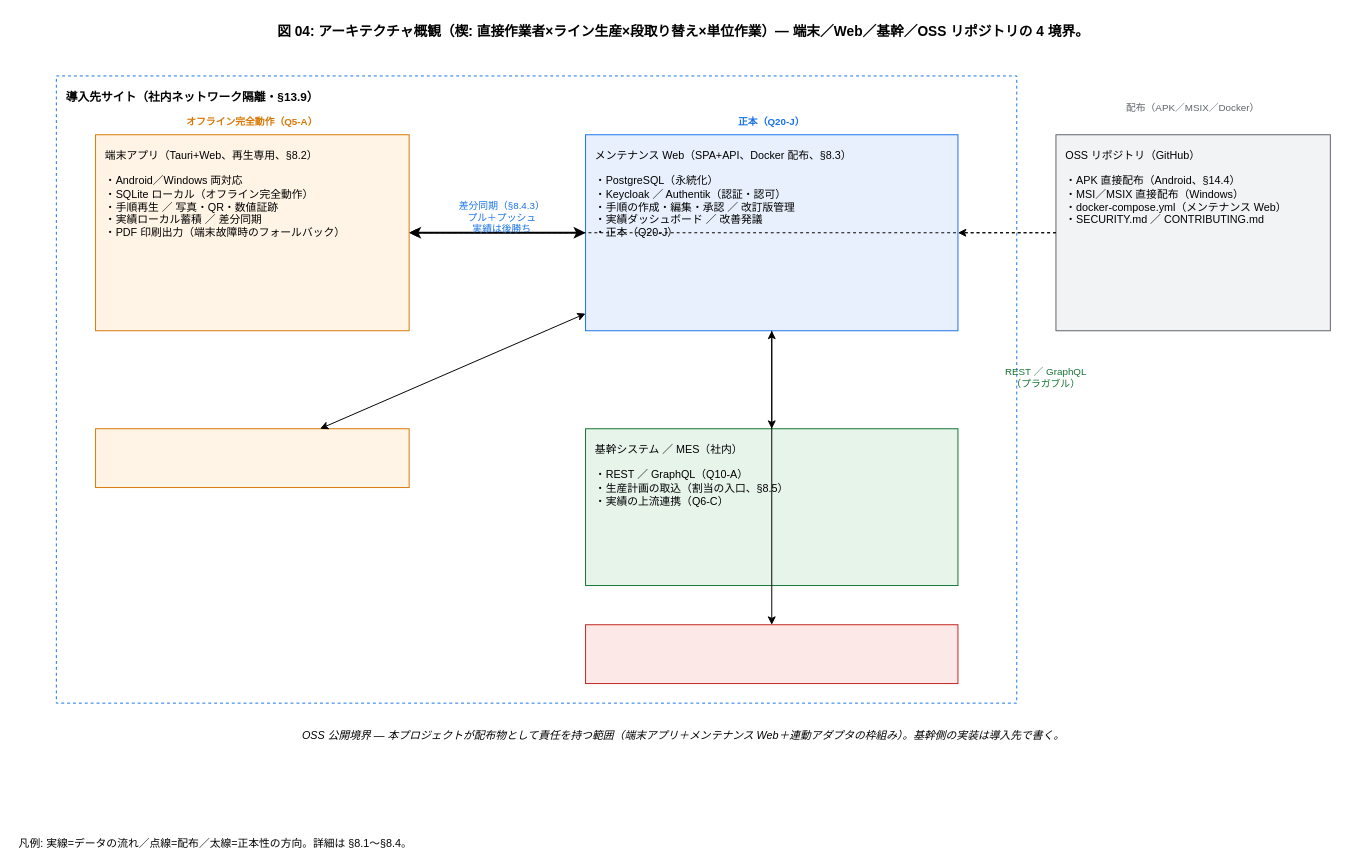
Image size: 1366x866. Some labels were removed from this diagram. Here are the shapes that lost their labels. From the top down, the box of each, then its label:
(95, 428, 409, 488): 端末（増設） 隣端末からの即時呼出（Q32-B）
(585, 624, 958, 684): 監査出力（§14.11） ・改訂履歴 ／ 実績データ ／ システムログ ／ テスト結果
